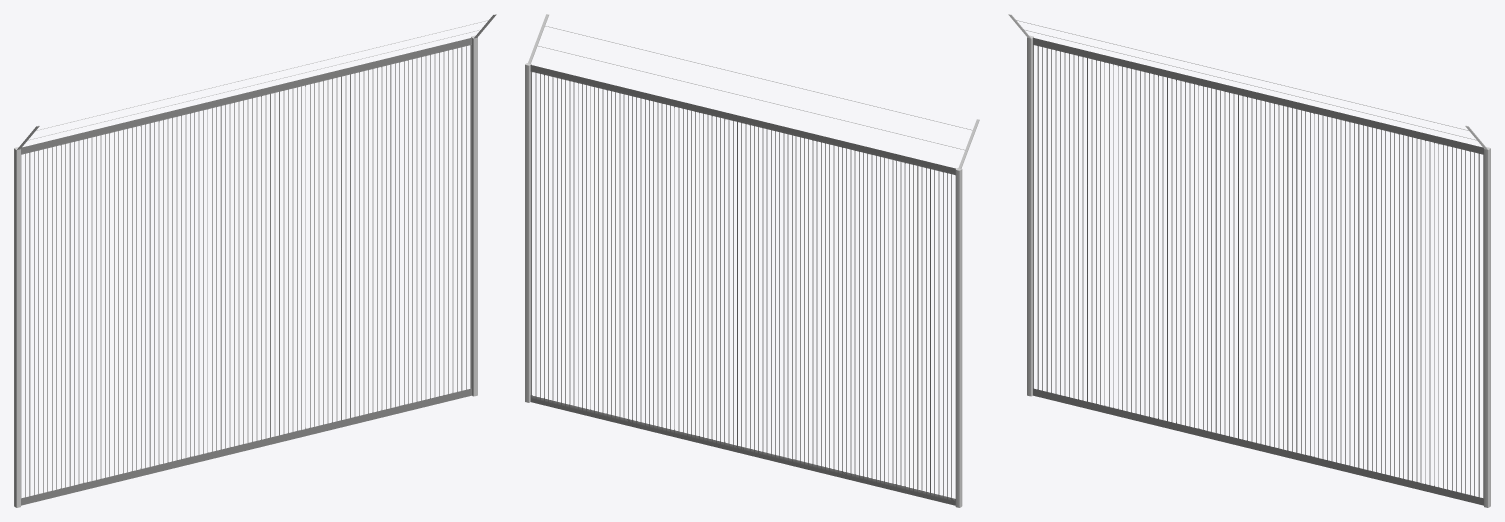
Rendered from Powerplant_Model_Environment_WiredFence_1.fbx.
3 renders of one model, left to right at view 1: azimuth 30°, elevation 25°; view 2: azimuth 150°, elevation 25°; view 3: azimuth 330°, elevation 25°, orthographic. The views are drawn at different scales.
Parts seen in each view (by area): view 1: FenceWall, Pole 2, Pole 1, Laser1; view 2: FenceWall, Pole 2, Pole 1; view 3: FenceWall, Pole 1, Pole 2, Laser1.
Part boxes in pixels (x1,y1,x2,y2): FenceWall: [21, 38, 471, 505]; Pole 2: [14, 125, 39, 507]; Pole 1: [471, 14, 496, 396]; Laser1: [36, 20, 488, 130]; FenceWall: [530, 65, 955, 505]; Pole 2: [955, 119, 979, 507]; Pole 1: [525, 14, 548, 402]; FenceWall: [1033, 38, 1483, 505]; Pole 1: [1465, 125, 1490, 507]; Pole 2: [1008, 14, 1033, 396]; Laser1: [1016, 20, 1468, 130].
Size of the model in its own units: 425 by 348 by 35.67.
1 material, 1 textured.
